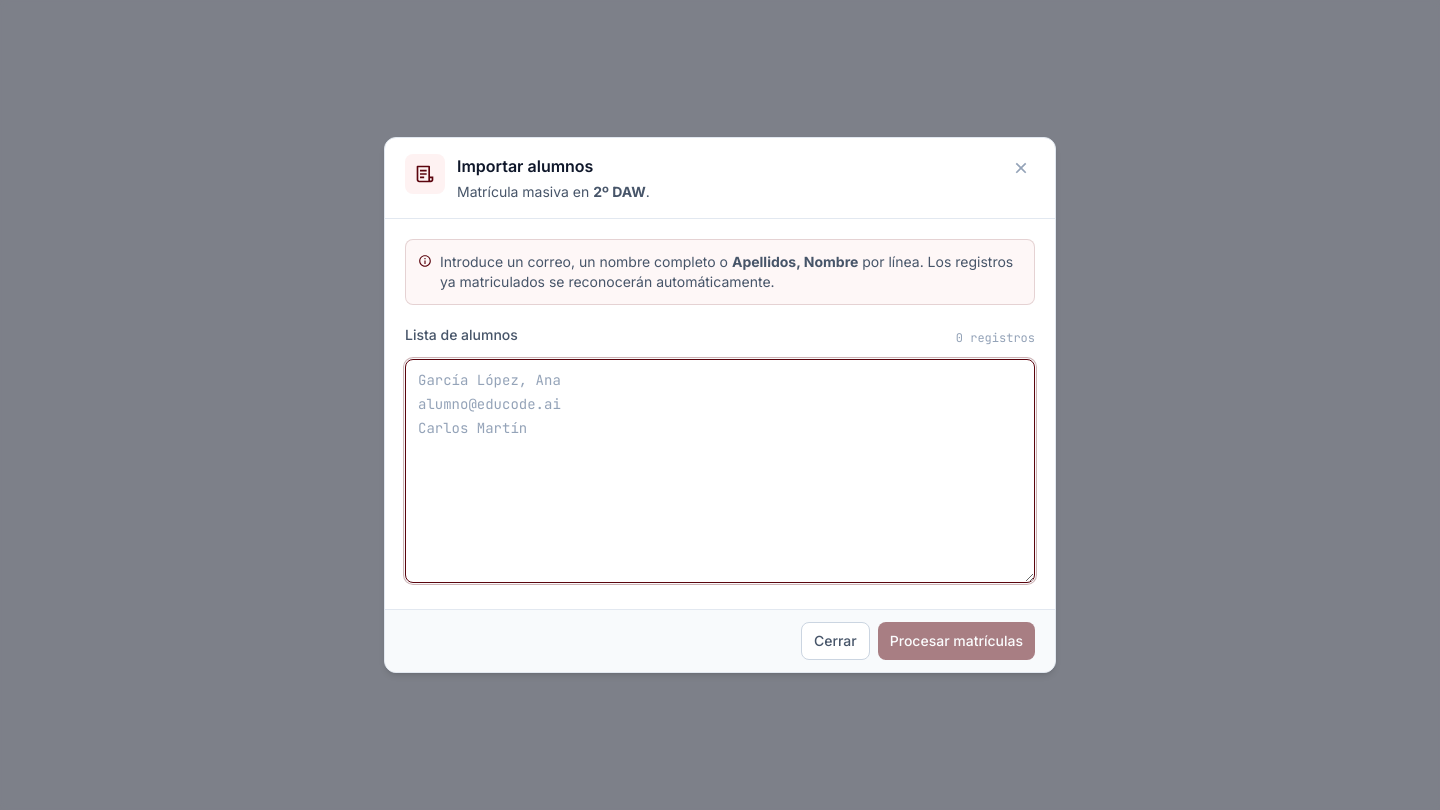
Scenario: BulkEnrollmentDialog › mantiene la entrada y muestra los registros no resueltos
In the text box labelled "Lista de alumnos": (720, 471) left=405, top=359, right=1035, bottom=583, type "no-existe@example.com"
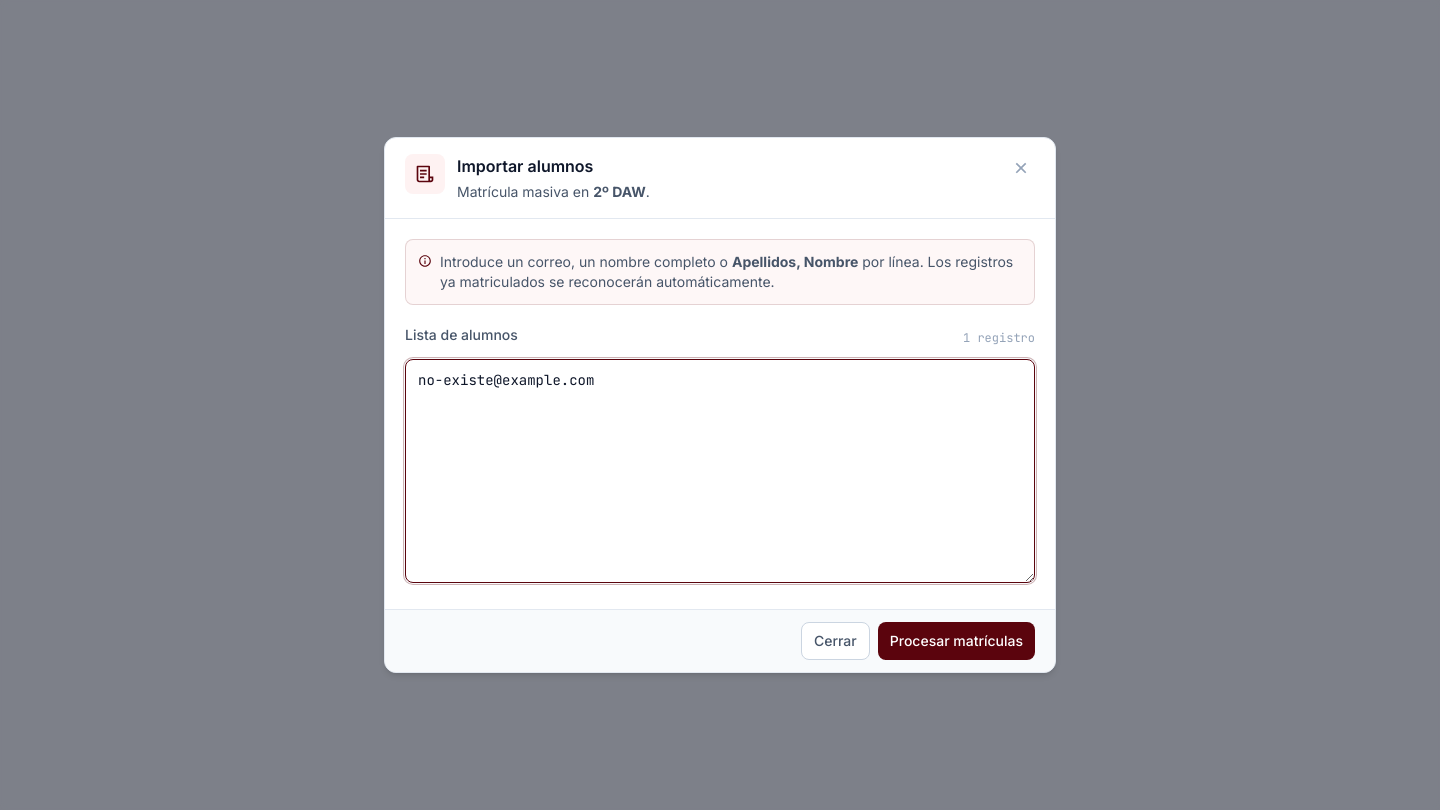
Click the button "Procesar matrículas": (956, 641) left=878, top=622, right=1035, bottom=660
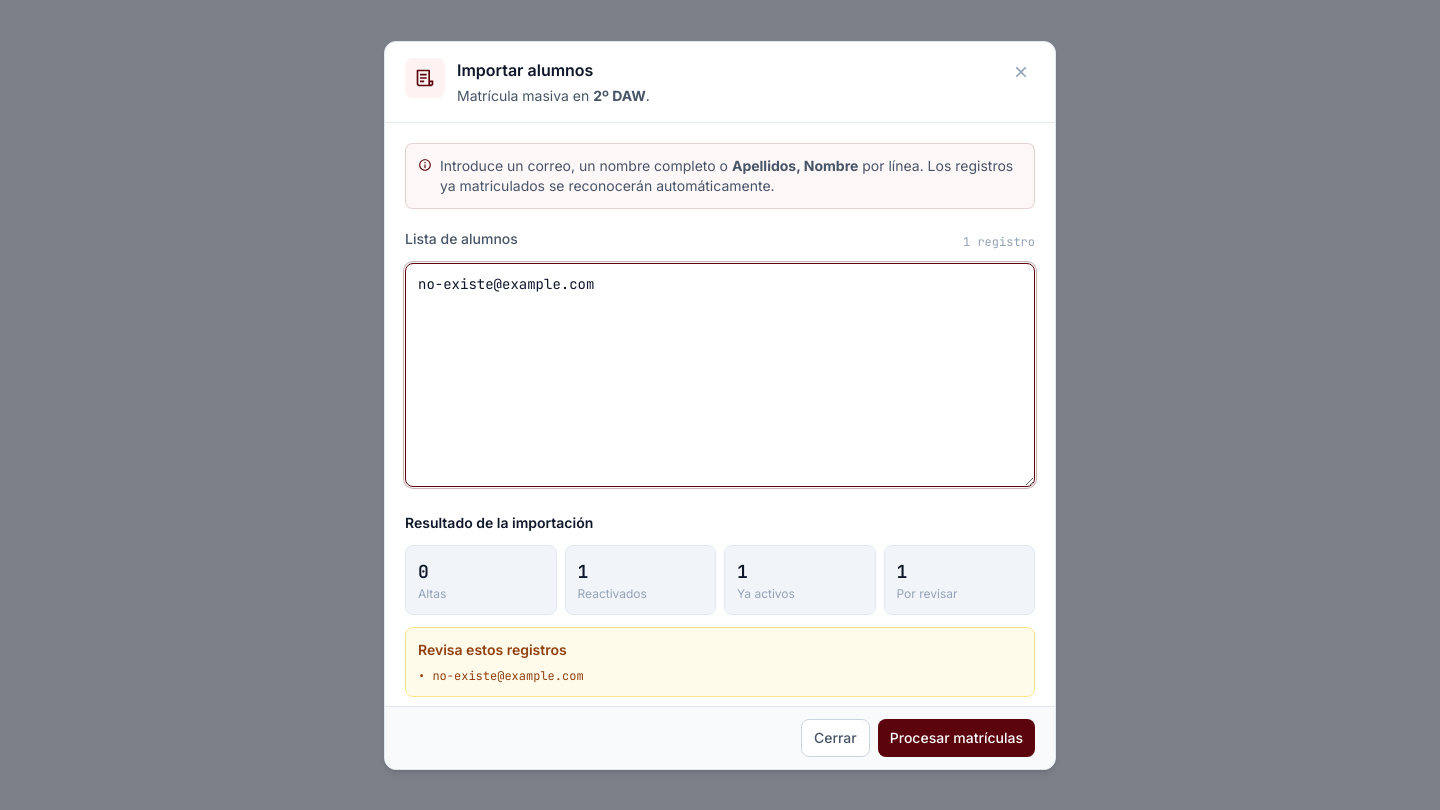
Expected: the text "Revisa estos registros" is shown, left=418, top=640, right=567, bottom=658
Expected: the list item "• no-existe@example.com" is shown, left=418, top=668, right=584, bottom=684
